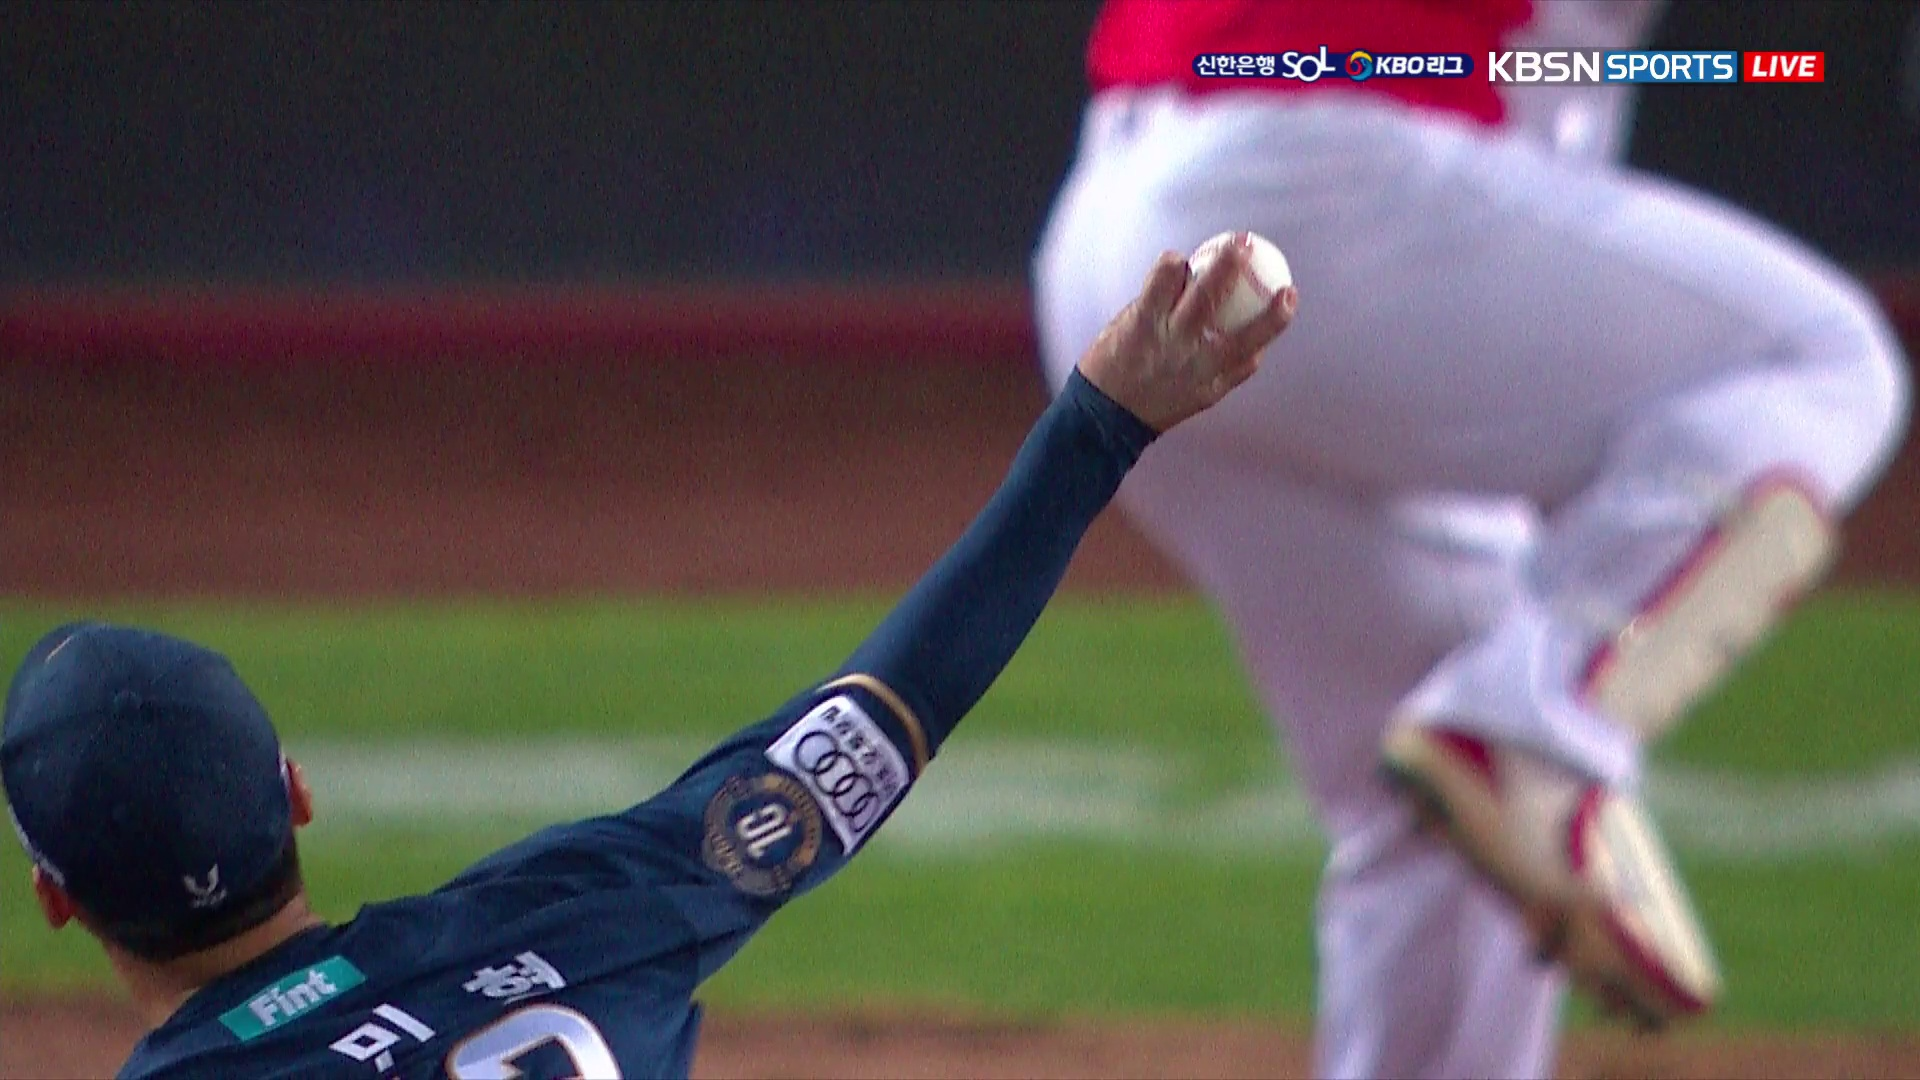zoomin_hand: (837, 216, 1309, 766)
